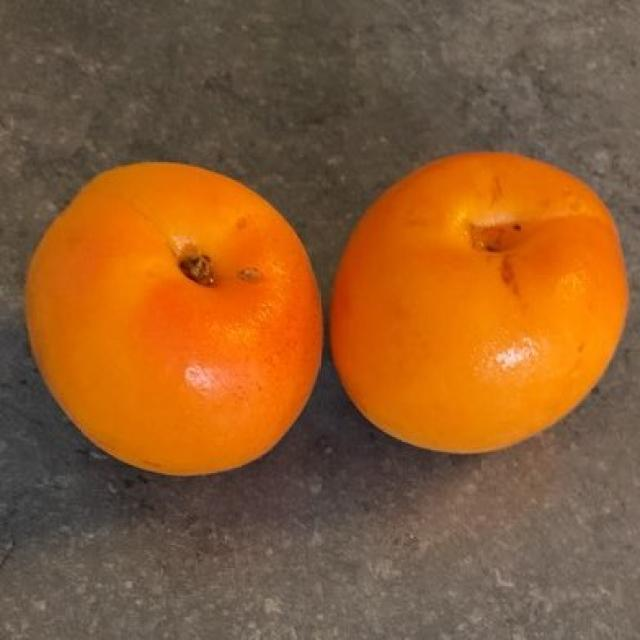apricots: (30, 156, 615, 471)
